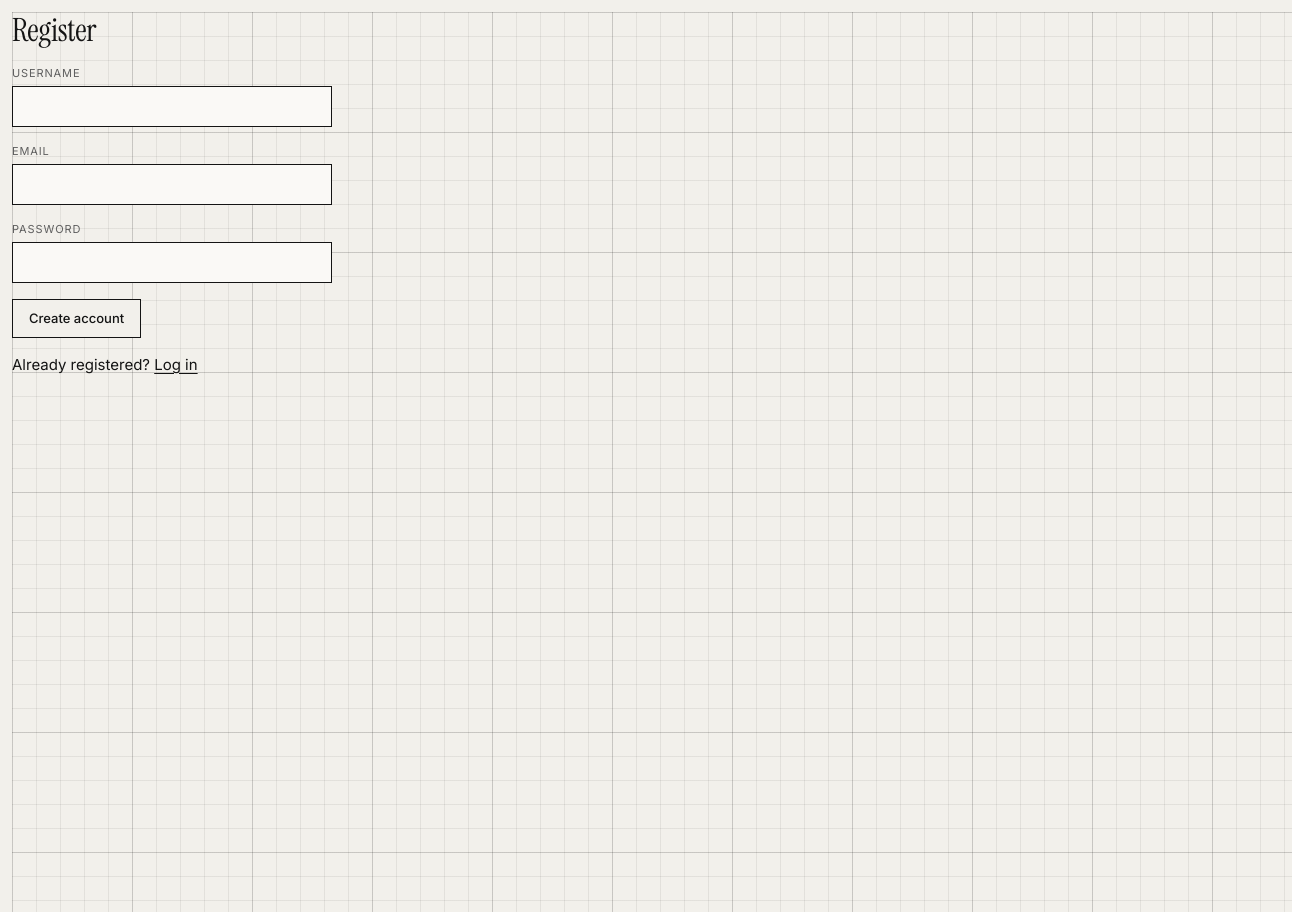
Test: RegisterPage › redirects to login with a message when auto-login after registration fails
Type "alice" into the field labelled "Username" at [172, 107], box [12,86,332,127]
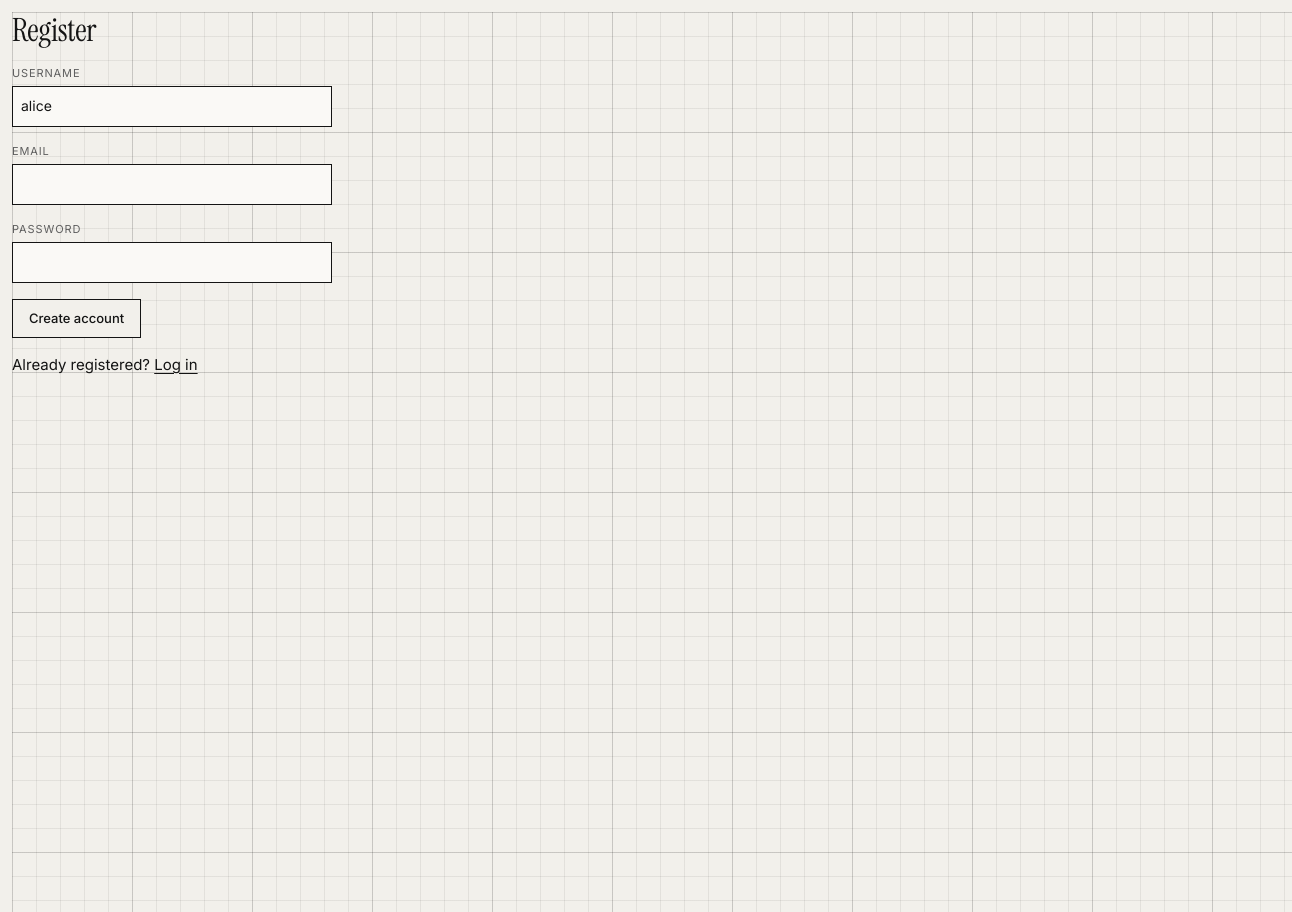
Type "a@b.co" into the field labelled "Email" at [172, 185], box [12,164,332,205]
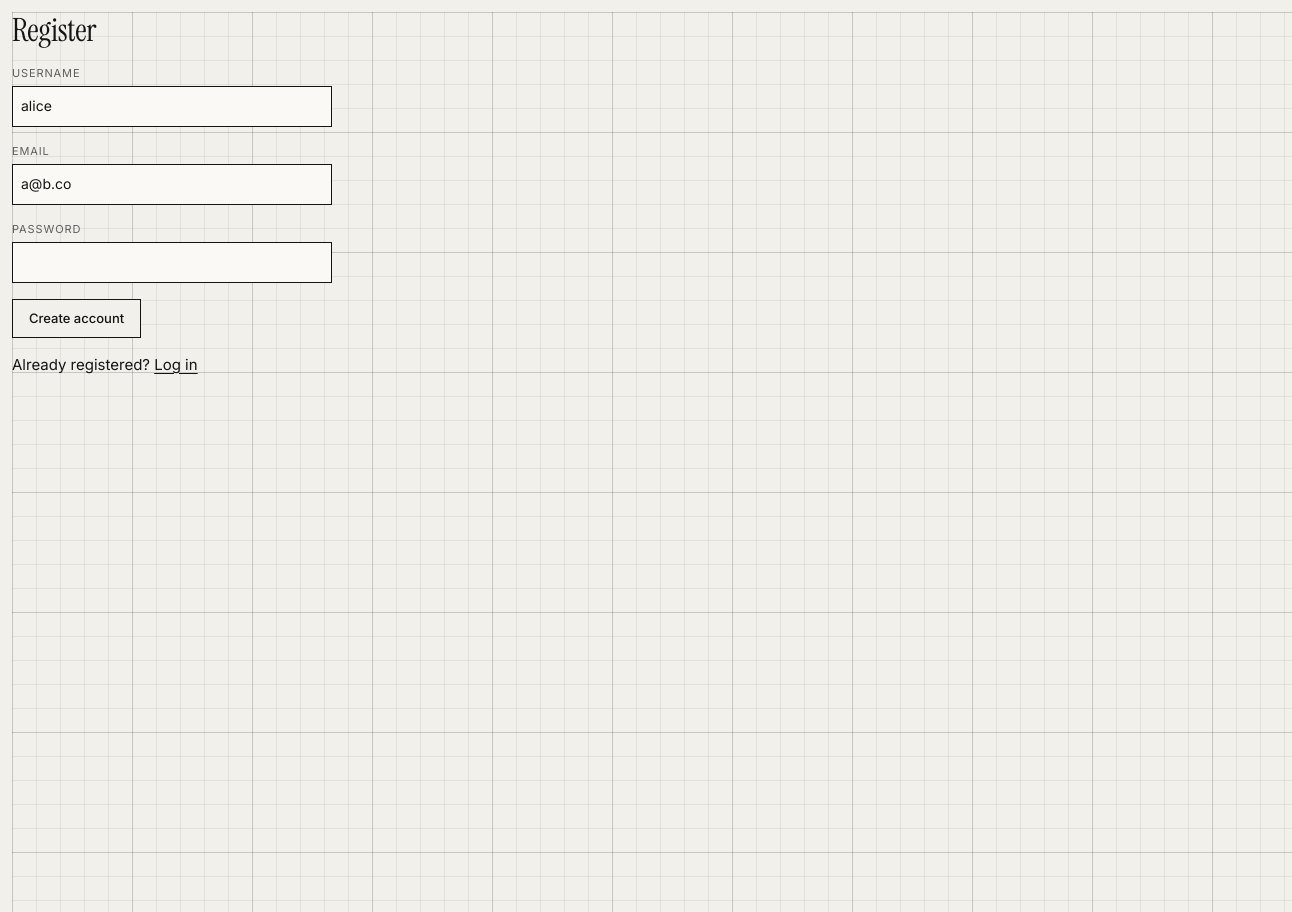
Type "secret123" into the password field labelled "Password" at [172, 263], box [12,242,332,283]
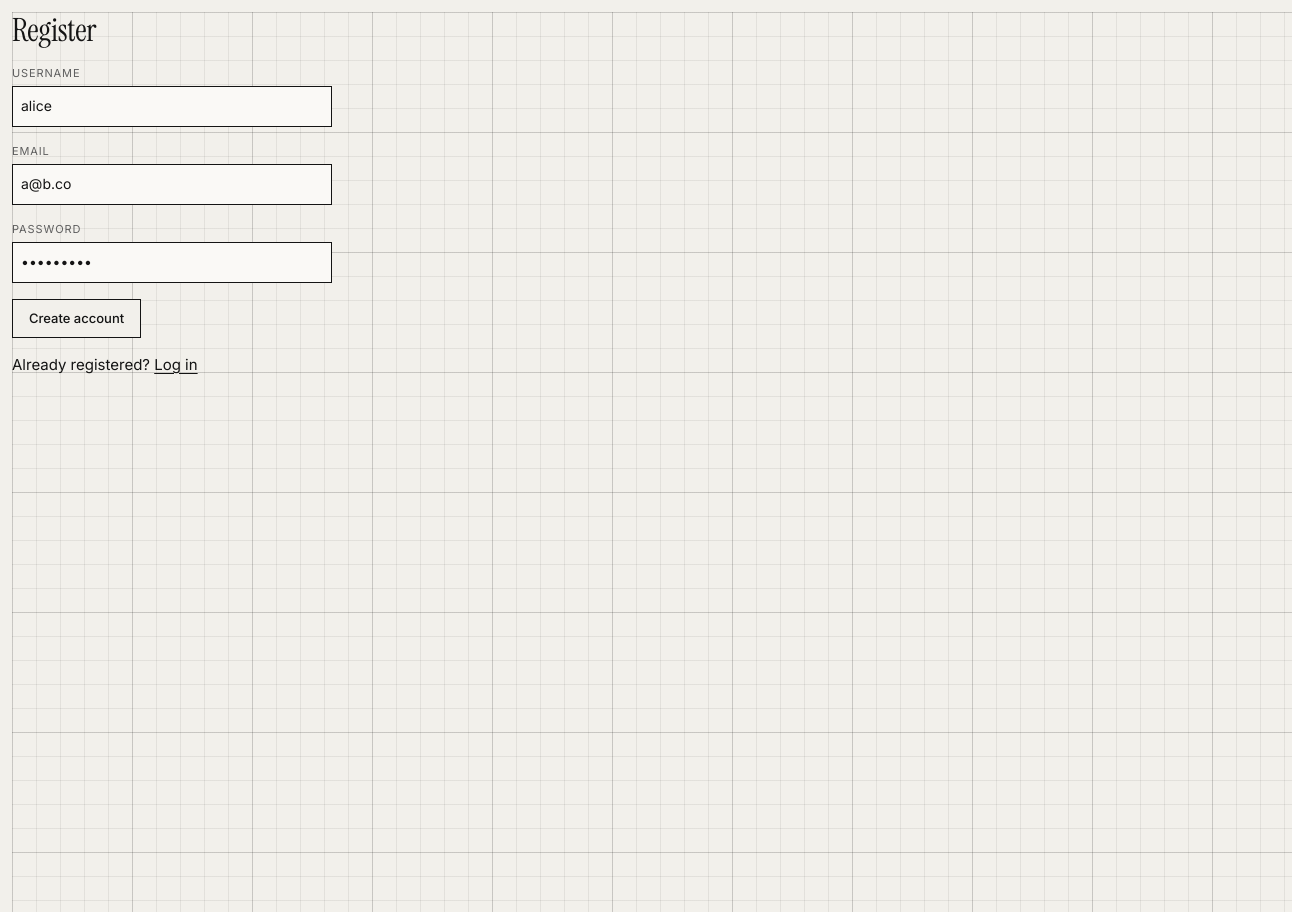
Click the button "Create account" at [77, 318], box [12,299,141,338]
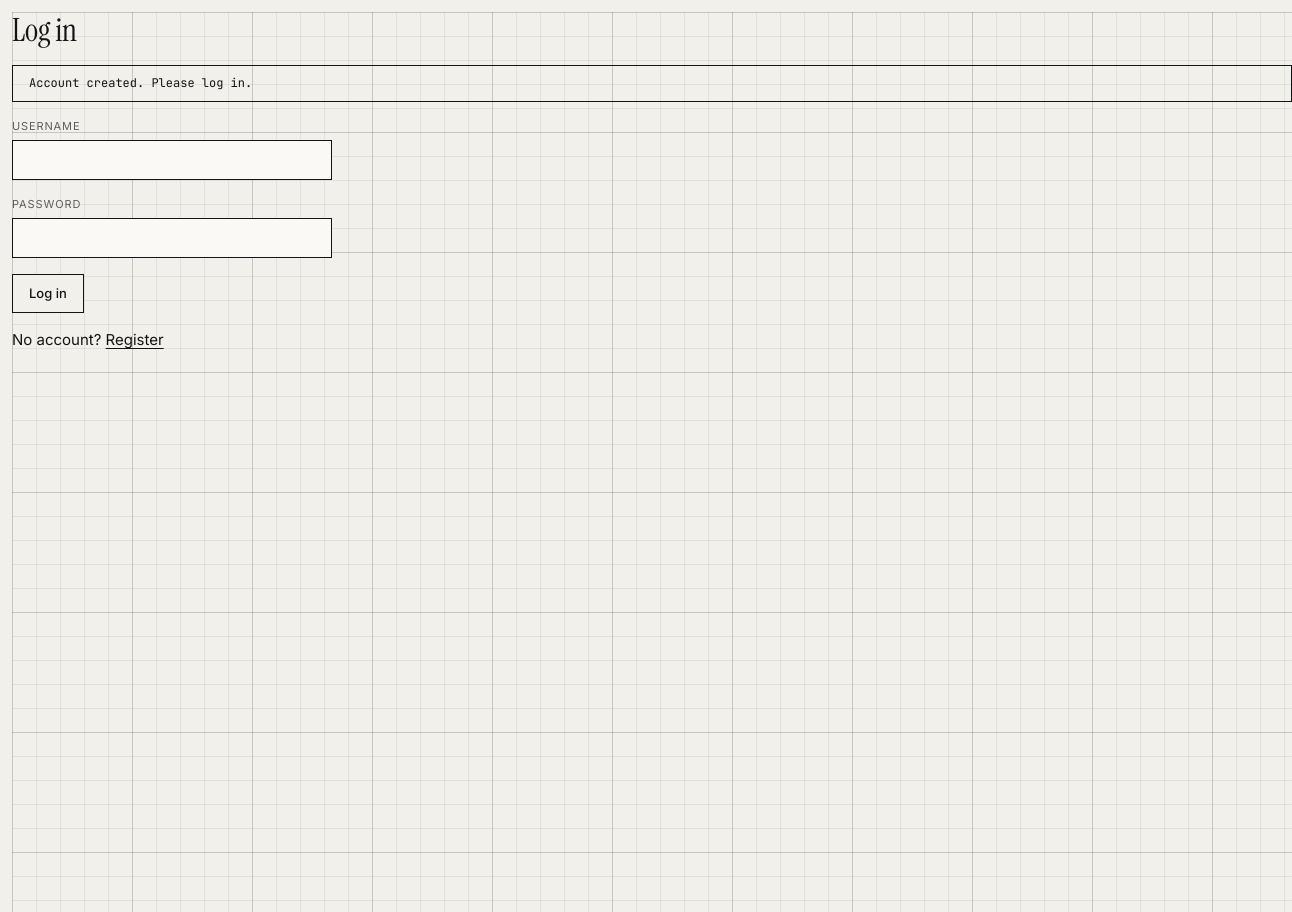
Check: the text "Account created. Please log in." is shown, box [12,65,1291,102]
